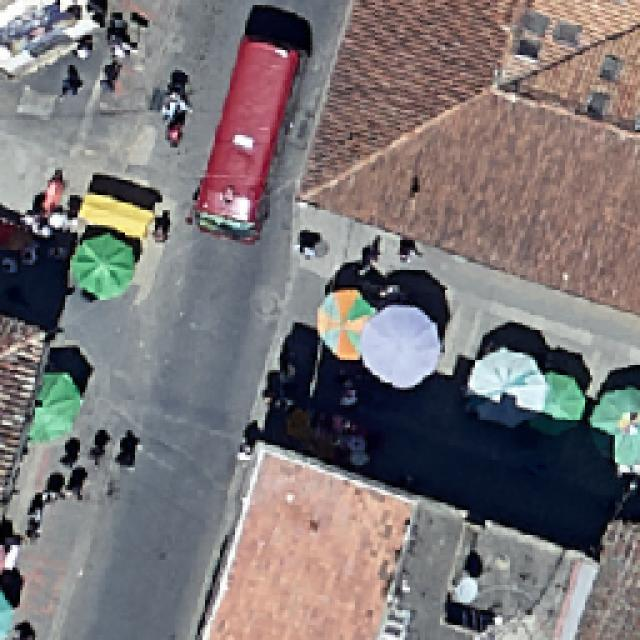vendedor_ambulante: (361, 307, 447, 385), (468, 344, 548, 423), (72, 233, 138, 304), (313, 286, 373, 361), (587, 380, 640, 460), (32, 373, 84, 443), (538, 366, 584, 436)
